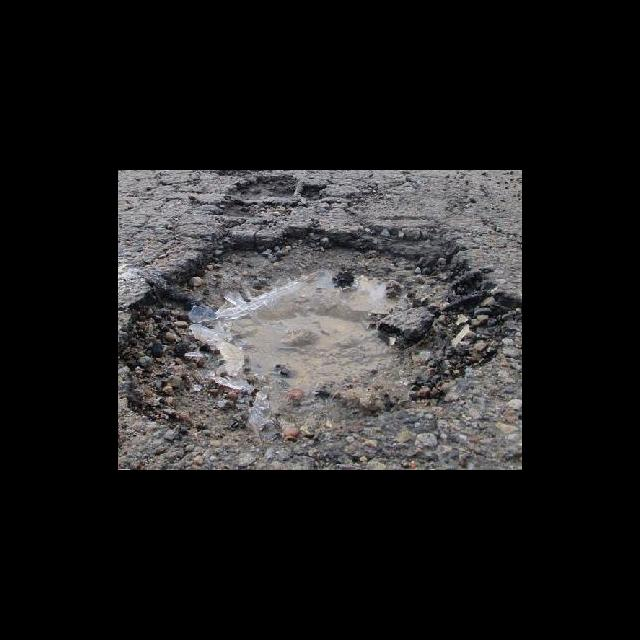lubang_kecil: (118, 218, 522, 441)
